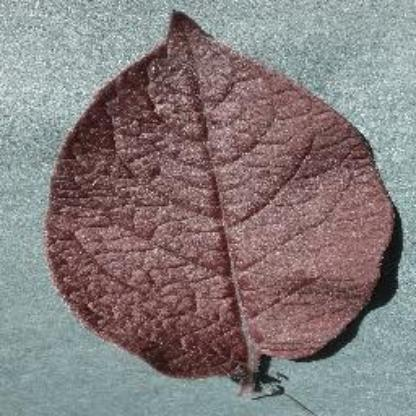Healthy-plant: (40, 7, 400, 401)
